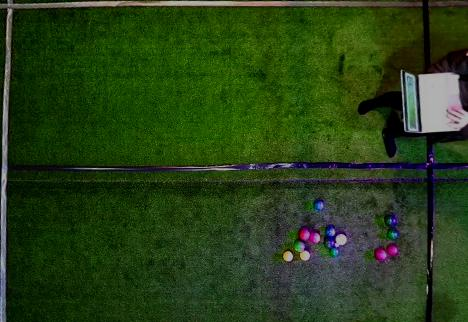blue: (313, 200, 324, 210), (325, 226, 335, 237)
green: (323, 237, 335, 249), (293, 240, 305, 252), (384, 215, 396, 226), (387, 229, 399, 240), (329, 247, 340, 257)
red: (374, 249, 387, 261), (387, 244, 399, 256), (299, 228, 310, 241), (335, 234, 347, 245), (310, 231, 320, 244)
vline: (425, 146, 467, 321), (0, 0, 16, 321), (422, 0, 467, 67)
white: (335, 245, 339, 247)
yellow: (299, 250, 310, 261), (283, 251, 293, 262)
